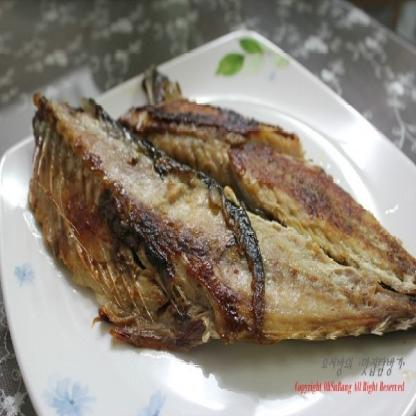Peixe: (15, 47, 416, 361)
